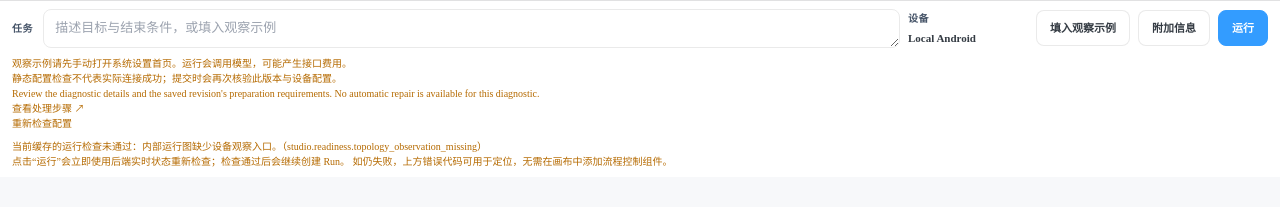
Test case: Task Run Bar › blocks an invalid revision without exposing internal flow-control guidance
The width and height of the screenshot is (1280, 207).
Check: the text "studio.readiness.topology_observation_missing" is shown, box x1=142 y1=141 x2=487 y2=152
Check: the text "点击“运行”会立即使用后端实时状态重新检查" is shown, box x1=12 y1=156 x2=672 y2=167
Click the button "运行": [1243, 28] box x1=1218 y1=10 x2=1268 y2=46
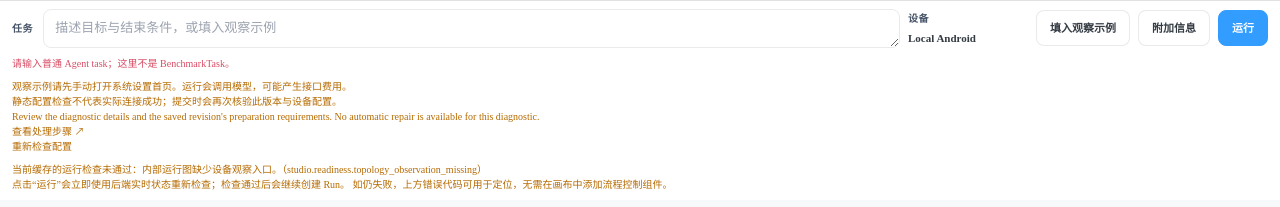
Check: the text "请输入普通 Agent task；这里不是 BenchmarkTask。" is shown, box x1=12 y1=58 x2=235 y2=69
